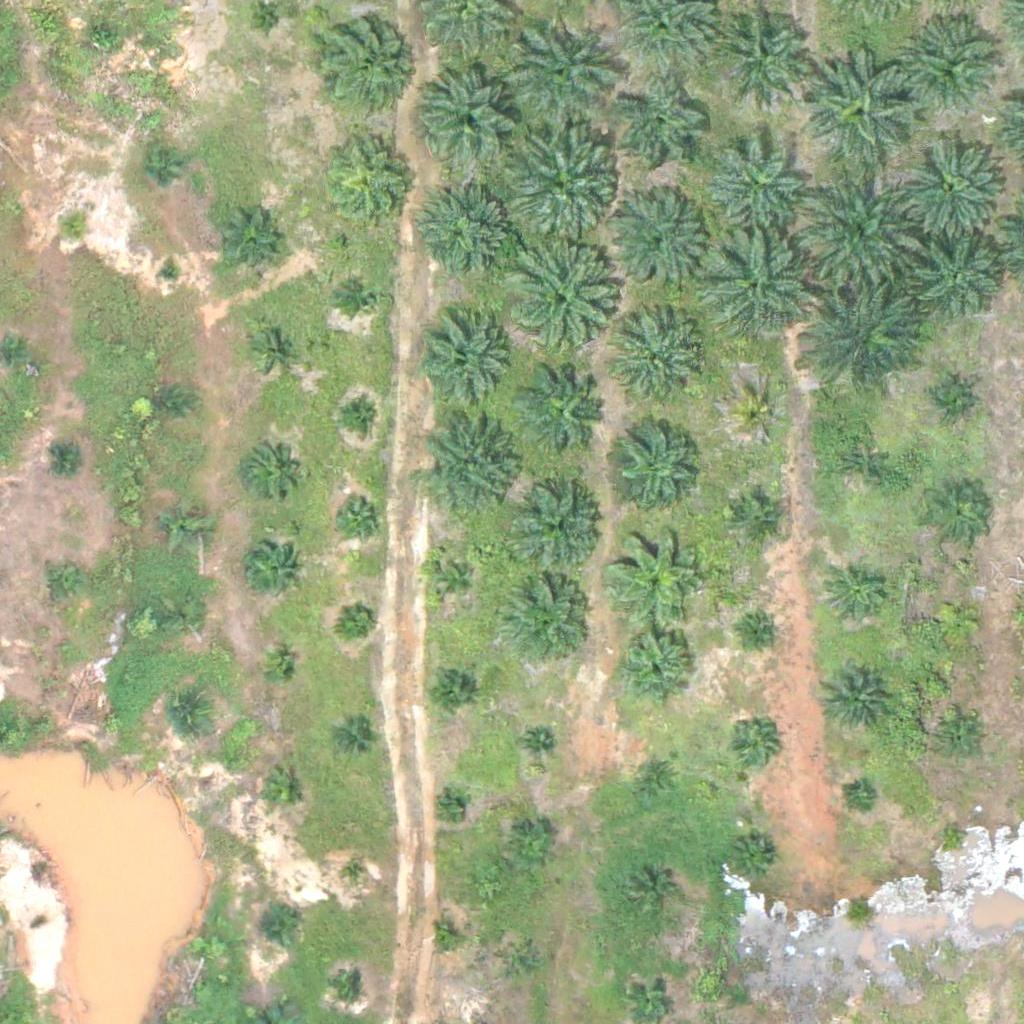Kelapa_Sawit: (796, 164, 921, 290), (804, 275, 929, 401), (497, 122, 622, 247), (497, 241, 622, 366), (704, 233, 817, 346), (503, 17, 616, 130), (896, 125, 1008, 239), (806, 45, 918, 159), (708, 134, 808, 235), (612, 80, 712, 181), (607, 189, 707, 290), (421, 67, 521, 168), (418, 186, 518, 287), (415, 314, 515, 415), (315, 11, 415, 112), (320, 132, 420, 233), (605, 524, 705, 625), (423, 416, 523, 517), (905, 16, 1005, 116), (714, 4, 814, 104), (618, 318, 706, 407), (612, 625, 700, 713), (914, 236, 1002, 324), (503, 574, 591, 662), (515, 482, 603, 570), (522, 369, 610, 457), (612, 414, 699, 502), (818, 661, 893, 737), (215, 213, 278, 276), (926, 484, 988, 547), (826, 563, 888, 626), (242, 540, 304, 603), (830, 433, 892, 496), (245, 443, 295, 494), (923, 375, 973, 426), (932, 594, 982, 645), (258, 767, 308, 818), (161, 500, 211, 551), (733, 492, 783, 542), (938, 715, 988, 765), (727, 721, 777, 771), (730, 835, 780, 885), (627, 867, 677, 917), (634, 753, 684, 803), (507, 823, 557, 873), (426, 663, 476, 713), (734, 392, 784, 442), (429, 554, 479, 604), (334, 490, 384, 540), (258, 908, 296, 946), (151, 385, 189, 423), (86, 20, 124, 58), (248, 1, 286, 39), (54, 210, 92, 248), (345, 279, 383, 317), (502, 945, 540, 982), (261, 652, 299, 689), (339, 396, 376, 434), (257, 329, 294, 367), (51, 440, 89, 477), (168, 598, 206, 635), (341, 600, 378, 638), (138, 149, 175, 187), (337, 724, 374, 761), (169, 696, 206, 733), (46, 566, 83, 603), (847, 784, 872, 810), (940, 822, 965, 847), (438, 794, 463, 819), (431, 924, 456, 949), (343, 863, 368, 888), (337, 975, 362, 1000), (748, 620, 773, 645), (157, 259, 182, 284), (526, 730, 550, 755)
